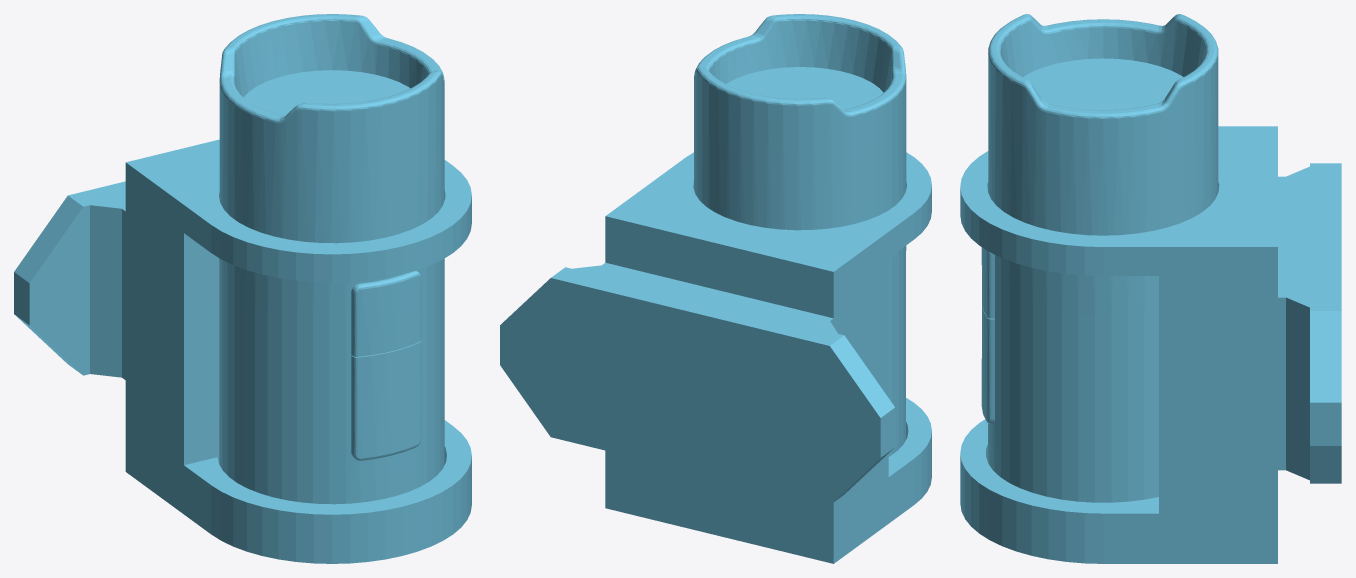
File: camera.dae
The picture shows the model from 3 angles, left to right: view 1: azimuth 30°, elevation 25°; view 2: azimuth 150°, elevation 25°; view 3: azimuth 270°, elevation 25°; orthographic projection. The views are drawn at different scales.
Parts seen in each view (by area): view 1: pxxls_cam_camera; view 2: pxxls_cam_camera; view 3: pxxls_cam_camera.
Part boxes in pixels (left/top/right/bottom): pxxls_cam_camera: left=14, top=14, right=471, bottom=563; pxxls_cam_camera: left=500, top=14, right=931, bottom=563; pxxls_cam_camera: left=960, top=14, right=1341, bottom=563.
Size of the model in its own units: 60 by 48 by 63.2.
